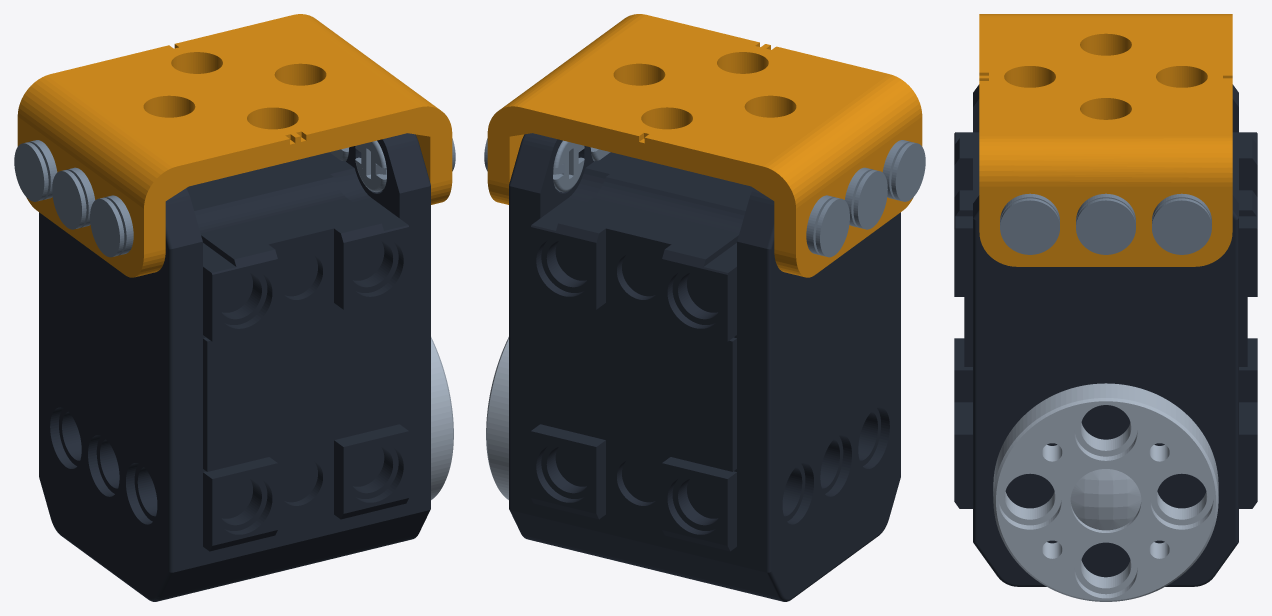
The model's file is section_2.dae.
3 views of the same model, side by side, from view 1: azimuth 30°, elevation 25°; view 2: azimuth 150°, elevation 25°; view 3: azimuth 270°, elevation 25° (orthographic).
Parts seen in each view (by area): view 1: section_2_004_body, section_2_014_short_U, section_2_005_horn, section_2_007_insert, section_2_002_insert, section_2_008_insert, section_2_010_base, section_2_006_base; view 2: section_2_004_body, section_2_014_short_U, section_2_005_horn, section_2_002_insert, section_2_007_insert, section_2_008_insert, section_2_000_base, section_2_003_base; view 3: section_2_004_body, section_2_014_short_U, section_2_005_horn, section_2_001_insert, section_2_011_insert, section_2_013_insert.
Boxes of the visible parts, box(x1,y1,x2,y2) form: section_2_004_body: box(39, 133, 430, 601); section_2_014_short_U: box(17, 14, 452, 277); section_2_005_horn: box(431, 337, 453, 499); section_2_007_insert: box(90, 197, 124, 257); section_2_002_insert: box(14, 142, 48, 201); section_2_008_insert: box(52, 170, 86, 229); section_2_010_base: box(355, 140, 386, 192); section_2_006_base: box(104, 195, 133, 255); section_2_004_body: box(509, 133, 900, 601); section_2_014_short_U: box(487, 14, 922, 277); section_2_005_horn: box(486, 337, 508, 499); section_2_002_insert: box(815, 197, 849, 257); section_2_007_insert: box(891, 142, 925, 201); section_2_008_insert: box(853, 170, 887, 229); section_2_000_base: box(553, 140, 584, 192); section_2_003_base: box(806, 195, 835, 255); section_2_004_body: box(954, 84, 1257, 586); section_2_014_short_U: box(979, 14, 1232, 266); section_2_005_horn: box(993, 383, 1218, 601); section_2_001_insert: box(1152, 198, 1211, 254); section_2_011_insert: box(1000, 198, 1059, 254); section_2_013_insert: box(1076, 198, 1135, 254).
Size of the model in its own units: 0.0307 by 0.024 by 0.039.
